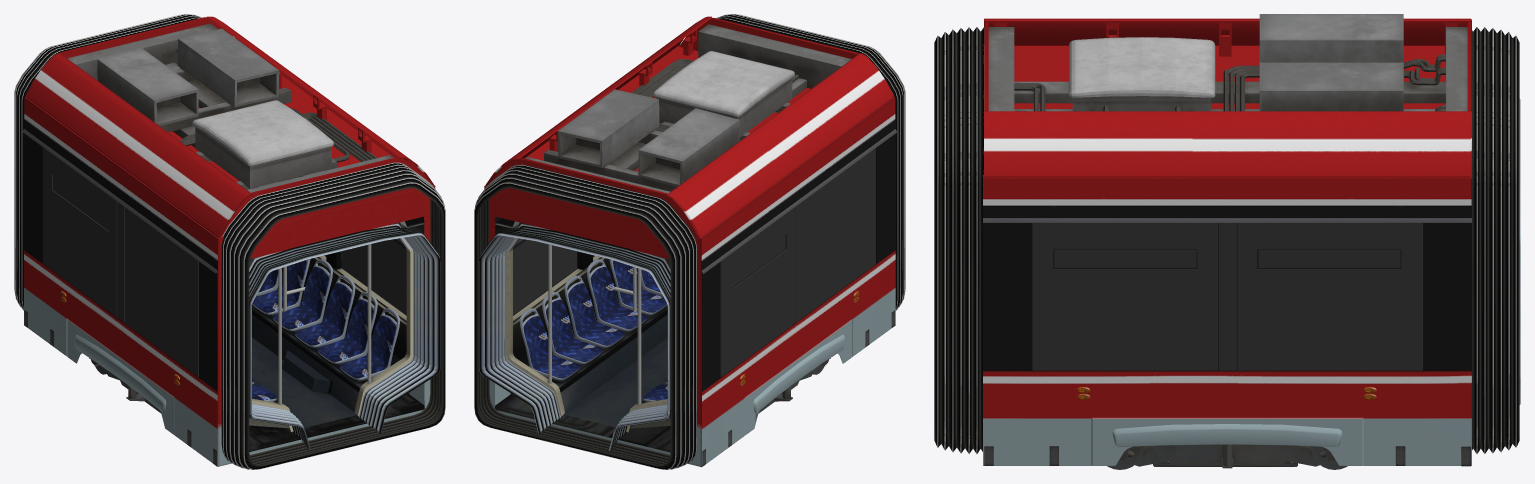
The model's file is vityaz_2.obj.
3 renders of one model, left to right at view 1: azimuth 30°, elevation 25°; view 2: azimuth 150°, elevation 25°; view 3: azimuth 270°, elevation 25°, orthographic. The views are drawn at different scales.
Visible parts, largest first — view 1: body, salon, steklo; view 2: body, salon, steklo; view 3: body, steklo, bog, salon.
Boxes of the visible parts, <box> form: body: <box>14,14,445,469</box>; salon: <box>249,218,440,451</box>; steklo: <box>43,148,406,376</box>; body: <box>474,14,905,469</box>; salon: <box>479,218,670,451</box>; steklo: <box>513,148,875,376</box>; body: <box>934,14,1519,466</box>; steklo: <box>1032,223,1422,370</box>; bog: <box>1107,444,1347,469</box>; salon: <box>1519,99,1520,404</box>.
Size of the model in its own units: 2.62 by 3.35 by 4.74.
14 materials, 14 textured.
